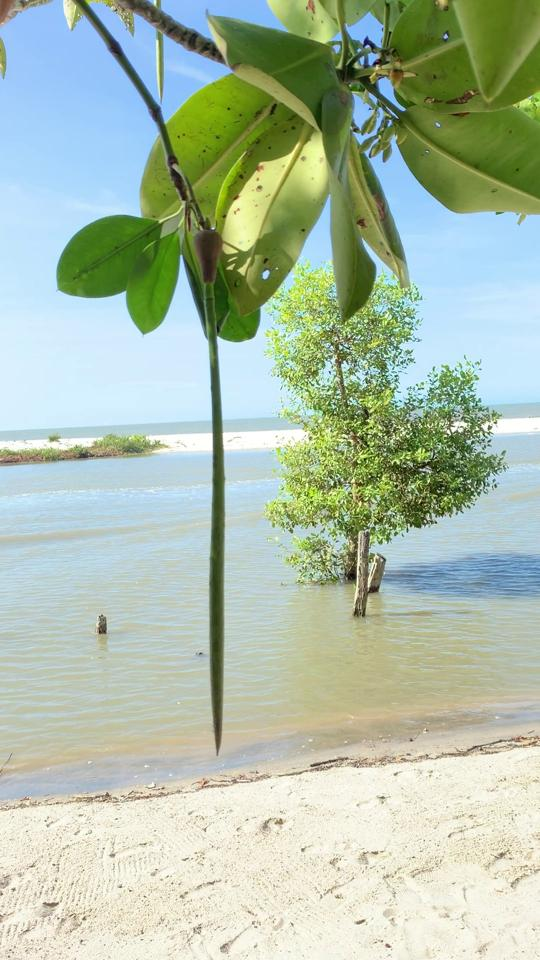setengah matang: (178, 219, 239, 763)
